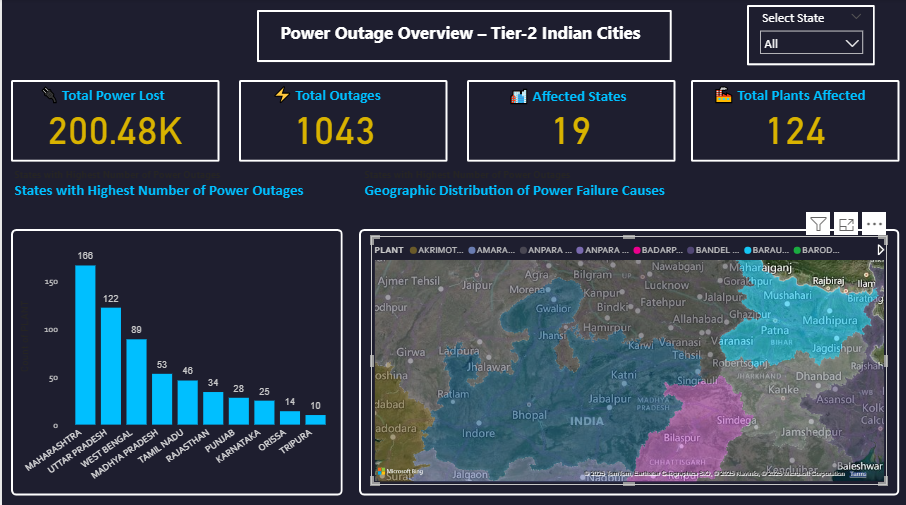

The dashboard page shown, as its layout file describes it:
{"tool":"powerbi","page":{"name":"oveview","canvas":[1280,720],"ordinal":0},"visuals":[{"type":"shape","box":[361.2,15.1,587.9,73.9],"z":0},{"type":"textbox","box":[389.7,25.2,537.5,89],"z":1000},{"type":"shape","box":[13.4,114.2,295.6,115.9],"z":2000},{"type":"textbox","box":[48.7,114.2,295.6,40.3],"z":3000},{"type":"card","fields":{"Values":["Sheet1 (2).total_power_lost"]},"box":[38.6,115.9,243.6,126],"z":4000},{"type":"shape","box":[336,114.2,295.6,115.9],"z":5000},{"type":"textbox","box":[378,114.2,295.6,40.3],"z":6000},{"type":"card","fields":{"Values":["Sheet1 (2).total_outage"]},"box":[389.7,129.3,162.9,100.8],"z":7000},{"type":"shape","box":[658.5,114.2,295.6,115.9],"z":8000},{"type":"shape","box":[976,114.2,295.6,115.9],"z":9000},{"type":"textbox","box":[712.2,115.9,295.6,40.3],"z":10000},{"type":"card","fields":{"Values":["Sheet1 (2).Total Affected States"]},"box":[727.3,142.8,157.9,73.9],"z":11000},{"type":"card","fields":{"Values":["Sheet1 (2).plant_affected"]},"box":[1023,122.6,201.6,112.5],"z":12000},{"type":"textbox","box":[1002.8,114.2,241.9,40.3],"z":13000},{"type":"shape","box":[13.4,325.9,470.3,378],"z":14000},{"type":"clusteredColumnChart","fields":{"Category":["Sheet1 (2).STATE"],"Y":["CountNonNull(Sheet1 (2).PLANT)"]},"box":[18.5,339.3,460.3,364.5],"z":15000},{"type":"textbox","box":[13.4,235.2,445.1,79],"z":16000},{"type":"shape","box":[505.6,325.9,766,378],"z":17000},{"type":"filledMap","fields":{"Category":["Sheet1 (2).STATE"],"Series":["Sheet1 (2).PLANT"]},"box":[522.4,336,732.4,352.8],"z":18000},{"type":"textbox","box":[509,235.2,467,90.7],"z":19000},{"type":"shape","box":[1056.6,8.4,181.4,85.7],"z":20000},{"type":"slicer","fields":{"Values":["Sheet1 (2).STATE"]},"box":[1065,10.1,166.3,73.9],"z":21000}]}

Visuals, with their boxes in screenshot pixels (x1, y1, x2, y2), scaled from the page's 1280x720 canvas onto the 906x505 screenshot:
shape: 256:11:672:62
textbox: 276:18:656:80
shape: 9:80:219:161
textbox: 34:80:244:108
card - Sheet1 (2).total_power_lost: 27:81:200:170
shape: 238:80:447:161
textbox: 268:80:477:108
card - Sheet1 (2).total_outage: 276:91:391:161
shape: 466:80:675:161
shape: 691:80:900:161
textbox: 504:81:713:110
card - Sheet1 (2).Total Affected States: 515:100:627:152
card - Sheet1 (2).plant_affected: 724:86:867:165
textbox: 710:80:881:108
shape: 9:229:342:494
clusteredColumnChart - Sheet1 (2).STATE x CountNonNull(Sheet1 (2).PLANT): 13:238:339:494
textbox: 9:165:325:220
shape: 358:229:900:494
filledMap - Sheet1 (2).STATE x Sheet1 (2).PLANT: 370:236:888:483
textbox: 360:165:691:229
shape: 748:6:876:66
slicer - Sheet1 (2).STATE: 754:7:872:59
